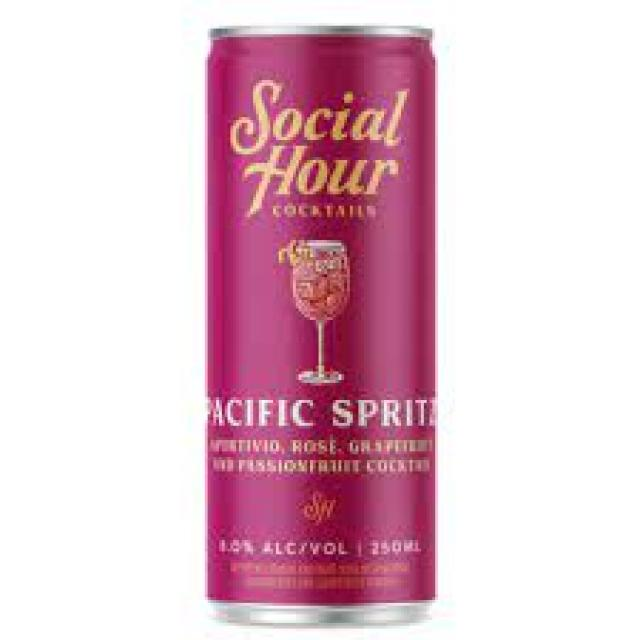Cans: (196, 20, 449, 626)
